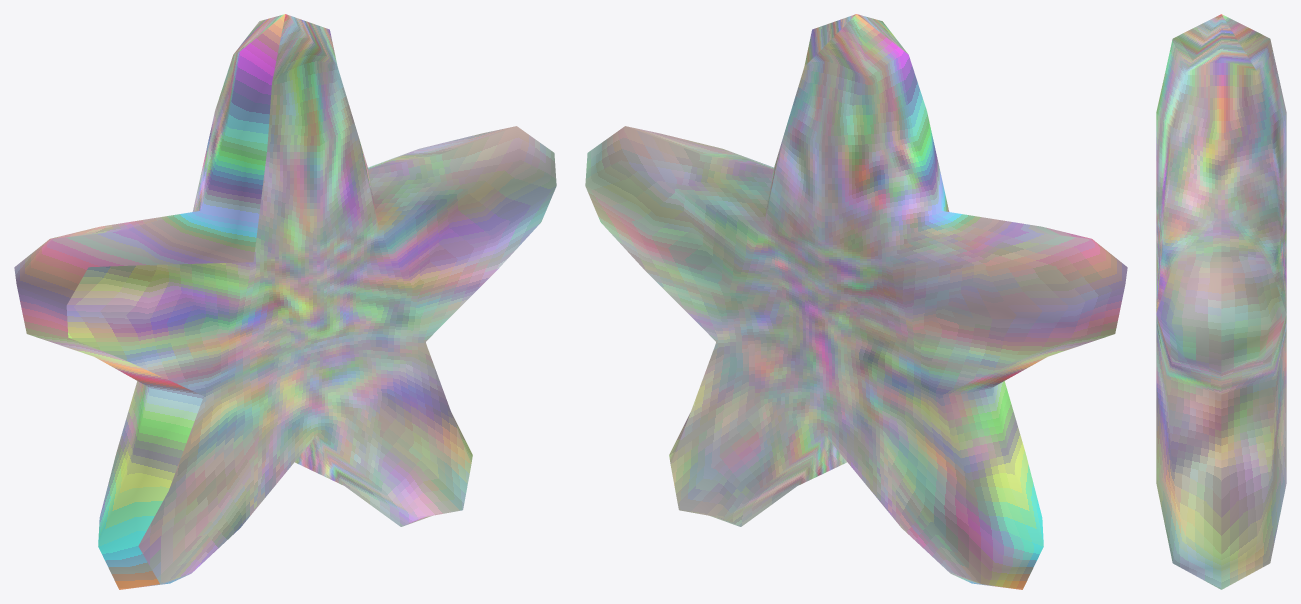
The model's file is ps2_save-icons_qatoolnetworkconfig.glb.
3 renders of one model, left to right at view 1: azimuth 30°, elevation 25°; view 2: azimuth 150°, elevation 25°; view 3: azimuth 270°, elevation 25°, orthographic. The views are drawn at different scales.
Visible parts, largest first — view 1: slime1.ico; view 2: slime1.ico; view 3: slime1.ico.
Boxes of the visible parts, x1=… form: slime1.ico: x1=14, y1=14, x2=556, y2=589; slime1.ico: x1=585, y1=14, x2=1127, y2=589; slime1.ico: x1=1156, y1=14, x2=1286, y2=589.
Bounding box in the file's own units: 4.54 × 4.37 × 1.02.
1 material, 1 textured.
